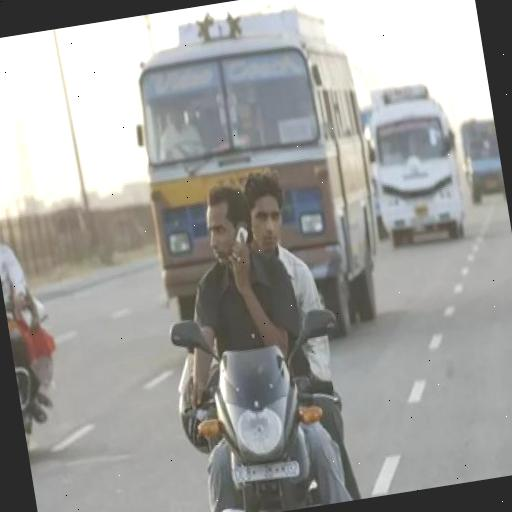no helmet: (128, 159, 374, 512)
